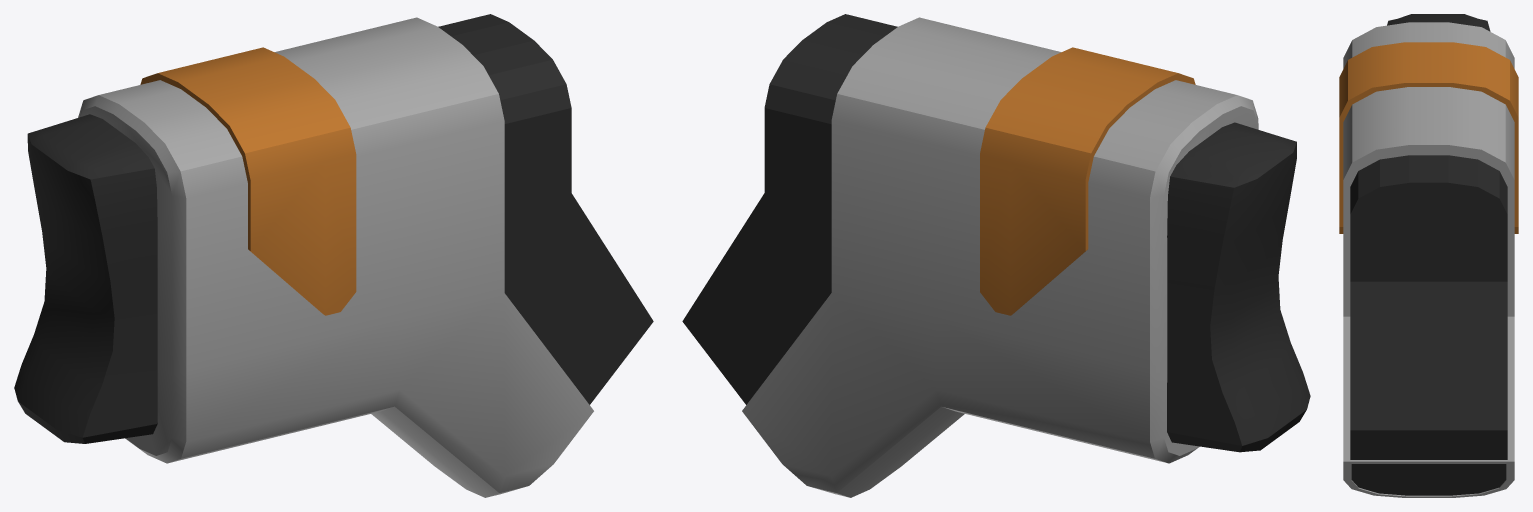
Rendered from quaternius-modular-sci-fi-guns-pack-stock-pistol-3.glb.
3 renders of one model, left to right at view 1: azimuth 30°, elevation 25°; view 2: azimuth 150°, elevation 25°; view 3: azimuth 270°, elevation 25°, orthographic. The views are drawn at different scales.
Parts seen in each view (by area): view 1: Stock_Pistol_3; view 2: Stock_Pistol_3; view 3: Stock_Pistol_3.
Boxes of the visible parts, x1,y1,x2,y2 form: Stock_Pistol_3: [14, 14, 653, 497]; Stock_Pistol_3: [682, 14, 1310, 497]; Stock_Pistol_3: [1339, 14, 1518, 497].
Size of the model in its own units: 0.3248 by 0.2472 by 0.114.
